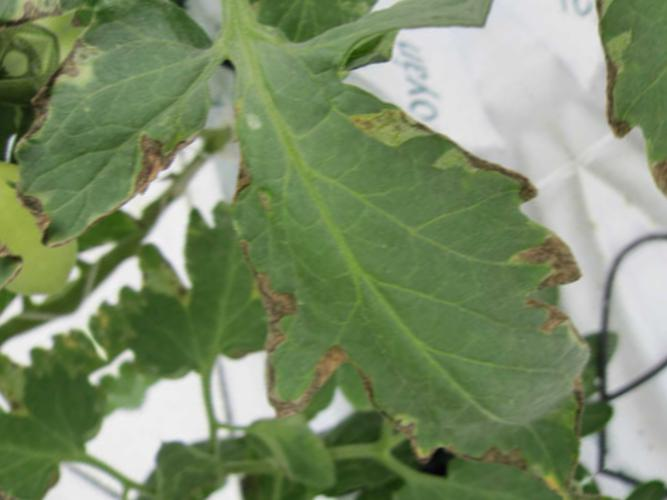Tomato leaf bacterial spot: (108, 0, 667, 500), (0, 0, 287, 268)
